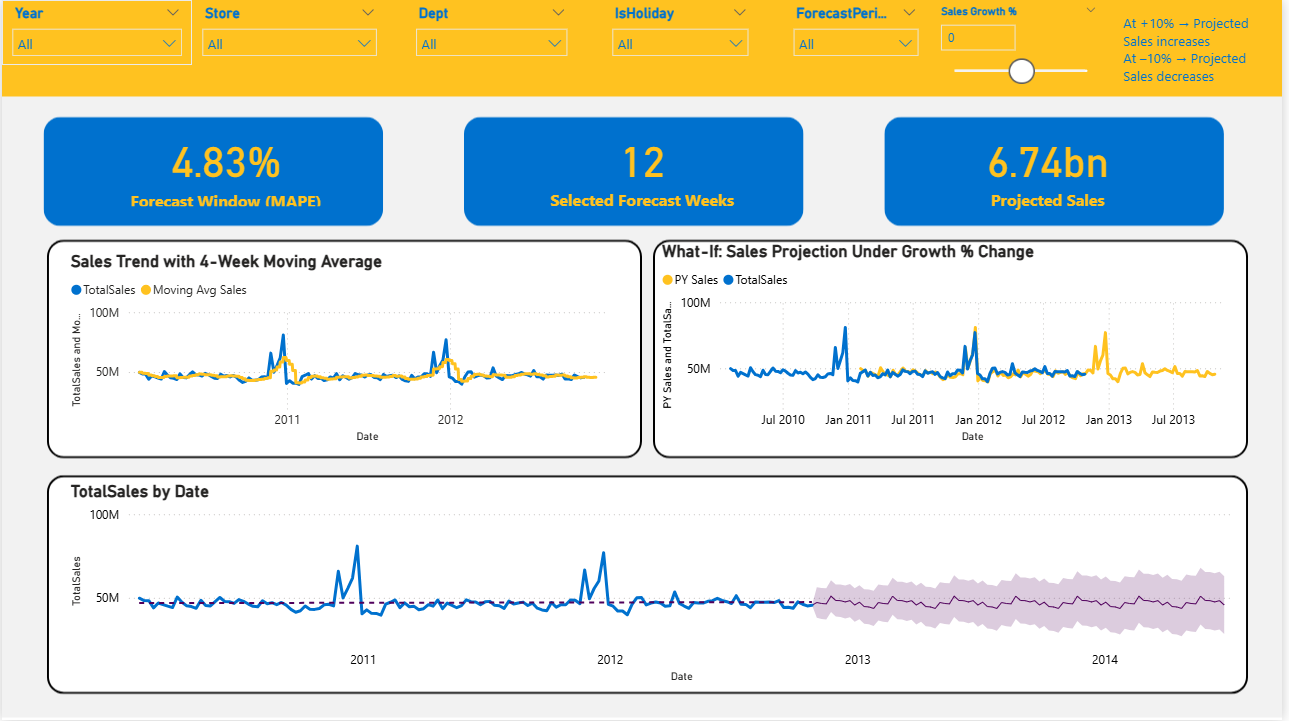

The dashboard page shown, as its layout file describes it:
{"tool":"powerbi","page":{"name":"Page 5","canvas":[1280,720],"ordinal":4},"visuals":[{"type":"slicer","fields":{"Values":["Sales Growth %.Sales Growth %"]},"box":[926.7,0,180,95],"z":0},{"type":"textbox","box":[1116.7,8.3,163.3,80],"z":1000},{"type":"lineChart","fields":{"Y":["Dim_Date.TotalSales"],"Category":["Dim_Date.Date"]},"box":[63.3,481.7,1176.7,206.7],"z":2000},{"type":"lineChart","title":"Sales Trend with 4-Week Moving Average","fields":{"Category":["Dim_Date.Date"],"Y":["Dim_Date.TotalSales","Category Parameter.Moving Avg Sales"]},"box":[63.3,251.7,548.3,196.7],"z":3000},{"type":"lineChart","title":"What-If: Sales Projection Under Growth % Change","fields":{"Category":["Dim_Date.Date"],"Y":["Dim_Date.PY Sales","Dim_Date.TotalSales"]},"box":[655,241.7,585,206.7],"z":4000},{"type":"card","title":"Forecast Window (MAPE)","fields":{"Values":["Category Parameter.MAPE"]},"box":[110,126.7,228.3,85],"z":5000},{"type":"slicer","fields":{"Values":["Dim_Date.Year"]},"box":[0,0,190,65],"z":6000},{"type":"slicer","fields":{"Values":["stores.Store"]},"box":[190,0,195,65],"z":7000},{"type":"slicer","fields":{"Values":["train.Dept"]},"box":[403.3,0,171.7,65],"z":8000},{"type":"slicer","fields":{"Values":["features.IsHoliday"]},"box":[600,0,156.7,65],"z":9000},{"type":"slicer","fields":{"Values":["ForecastPeriod.ForecastPeriod"]},"box":[781.7,0,145,75],"z":10000},{"type":"card","fields":{"Values":["ForecastPeriod.Selected Forecast Weeks"]},"box":[538.3,115,203.3,106.7],"z":11000},{"type":"card","fields":{"Values":["Category Parameter.Projected Sales"]},"box":[910,120,271.7,96.7],"z":12000}]}

Visuals, with their boxes in screenshot pixels (x1, y1, x2, y2), scaled from the page's 1280x720 canvas onto the 1289x721 screenshot:
slicer - Sales Growth %.Sales Growth %: [933,0,1114,95]
textbox: [1125,8,1288,88]
lineChart - Dim_Date.TotalSales x Dim_Date.Date: [64,482,1249,689]
"Sales Trend with 4-Week Moving Average" lineChart: [64,252,616,449]
"What-If: Sales Projection Under Growth % Change" lineChart: [660,242,1249,449]
"Forecast Window (MAPE)" card: [111,127,341,212]
slicer - Dim_Date.Year: [0,0,191,65]
slicer - stores.Store: [191,0,388,65]
slicer - train.Dept: [406,0,579,65]
slicer - features.IsHoliday: [604,0,762,65]
slicer - ForecastPeriod.ForecastPeriod: [787,0,933,75]
card - ForecastPeriod.Selected Forecast Weeks: [542,115,747,222]
card - Category Parameter.Projected Sales: [916,120,1190,217]
